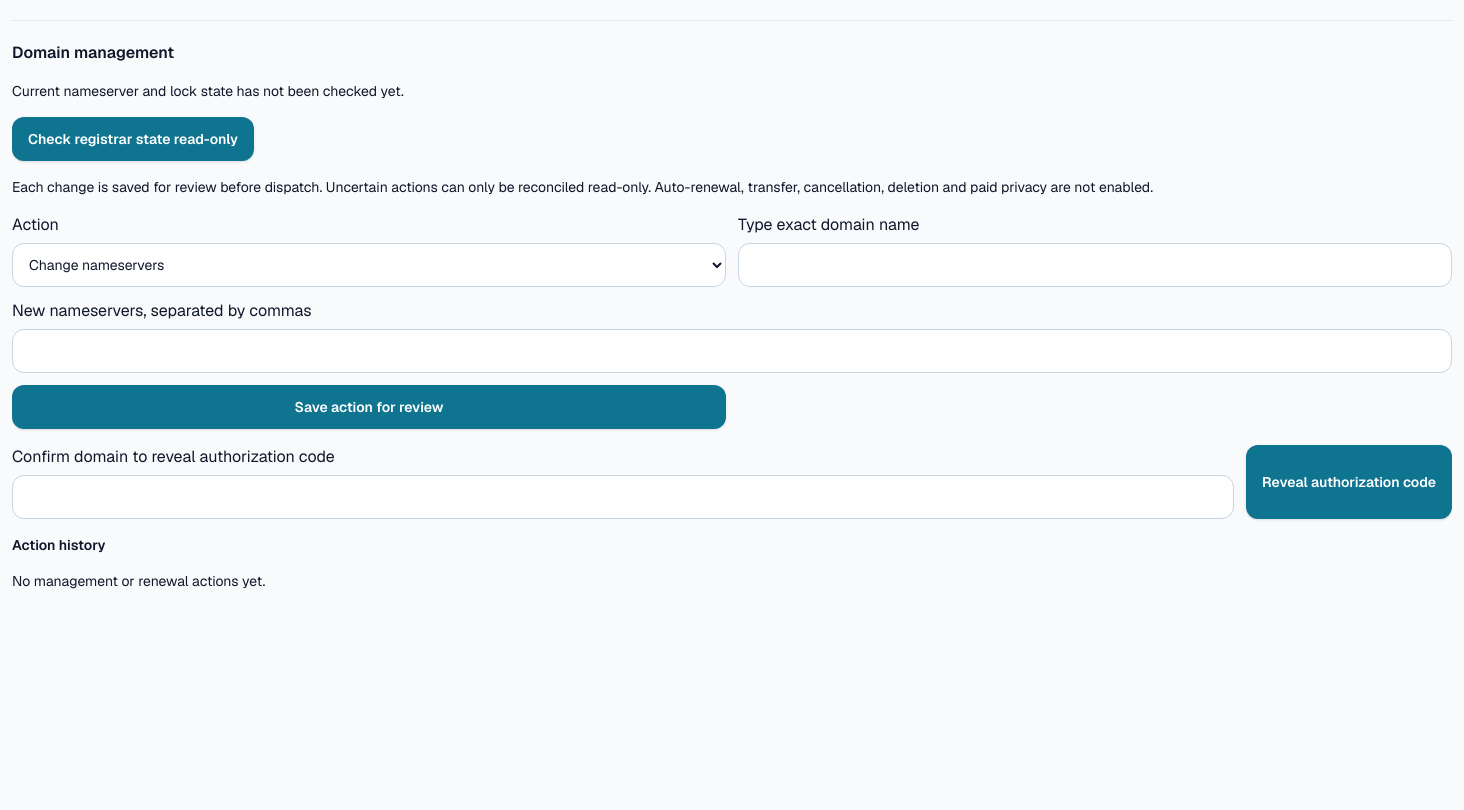
Test case: domain management controls › keeps a revealed code out of storage and hides it on explicit dismissal
This screenshot has width=1464, height=810.
Type "fictional-managed.com" into the field labelled "Confirm domain to reveal authorization code" at coordinates (623, 497), box [12,475,1234,519]
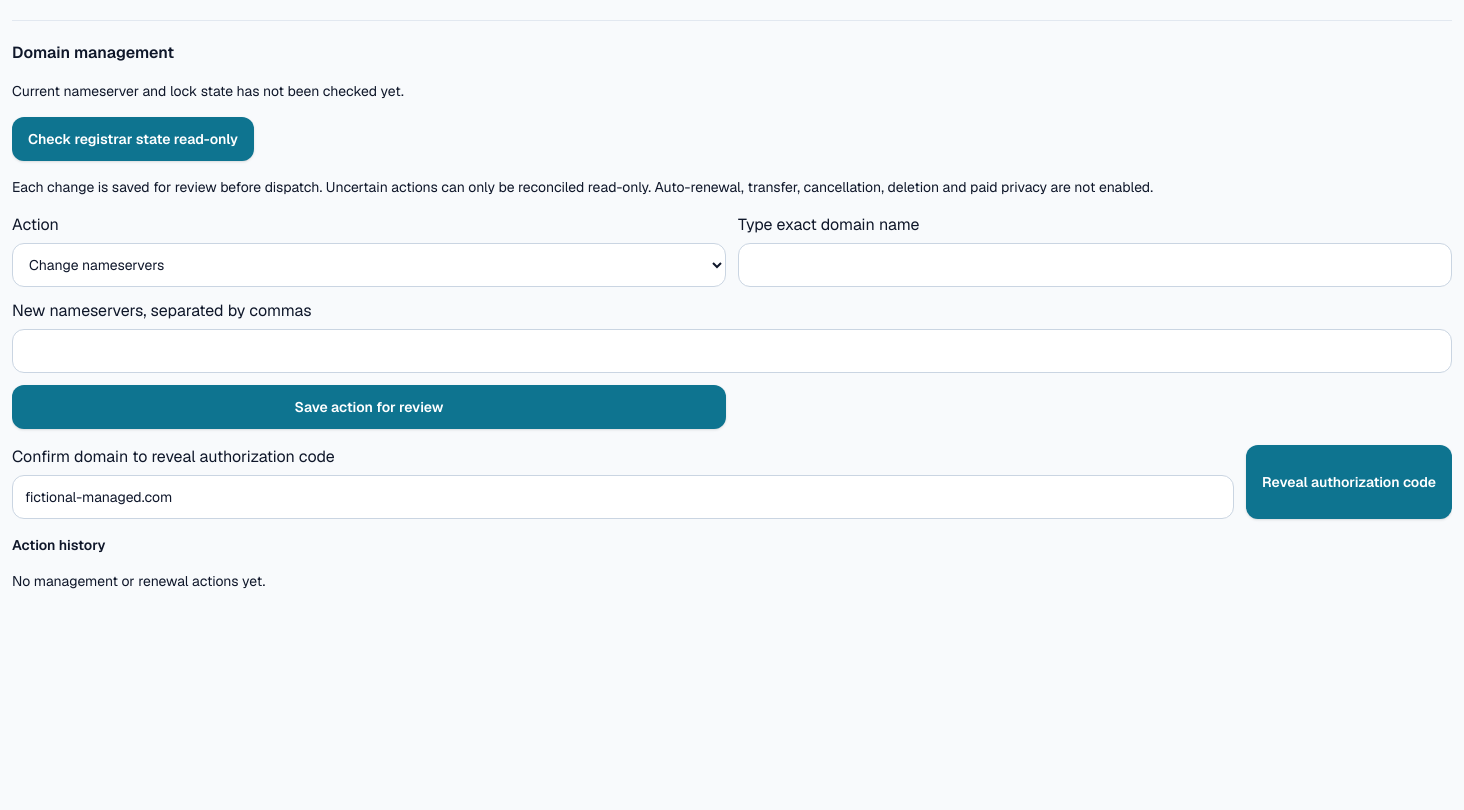
Submit the form "reveal authorization code", box [12,445,1452,519]
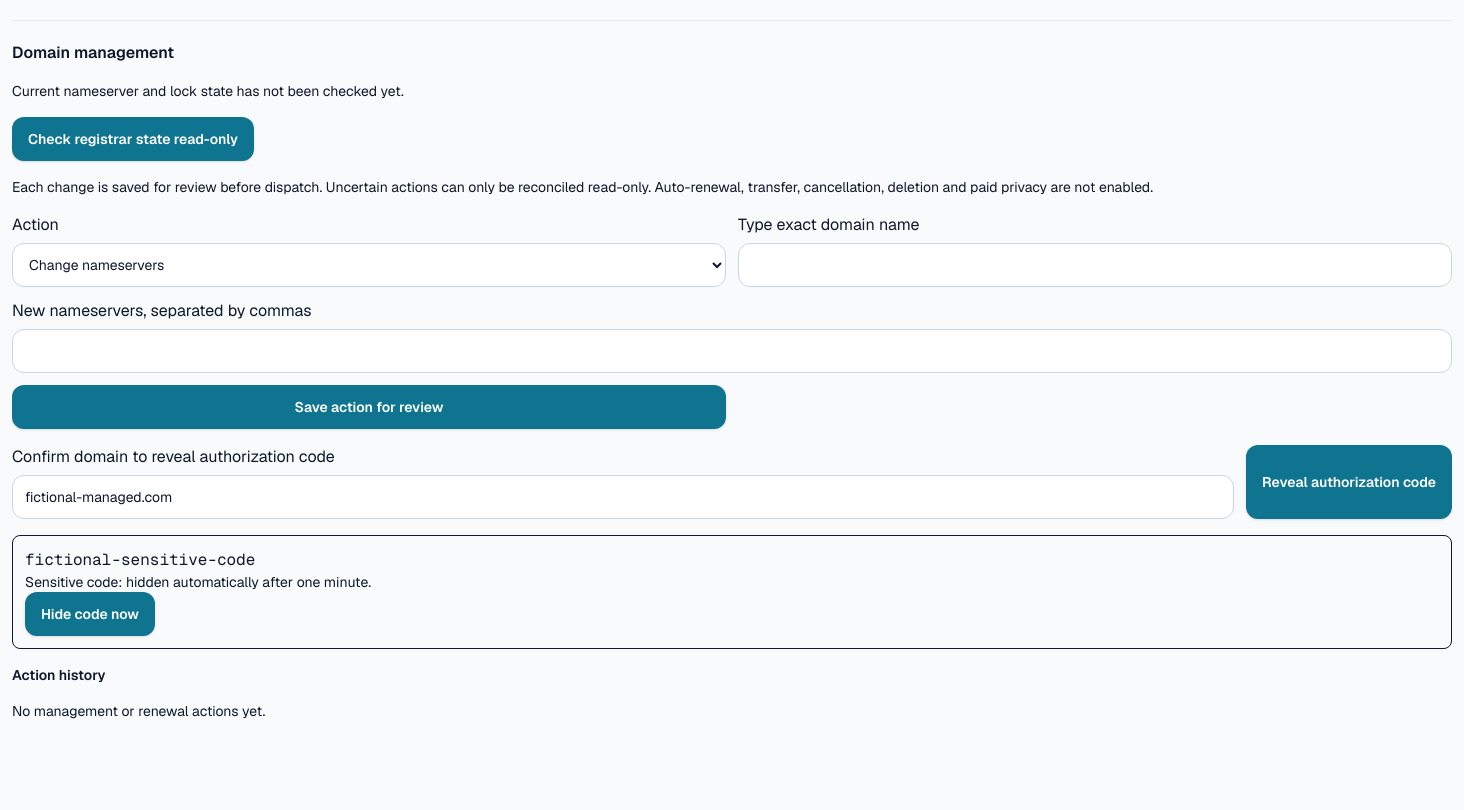
Result: the text "fictional-sensitive-code" is shown at [25,549,255,570]
Click the button "Hide code now" at coordinates (90, 614), box [25,592,155,636]
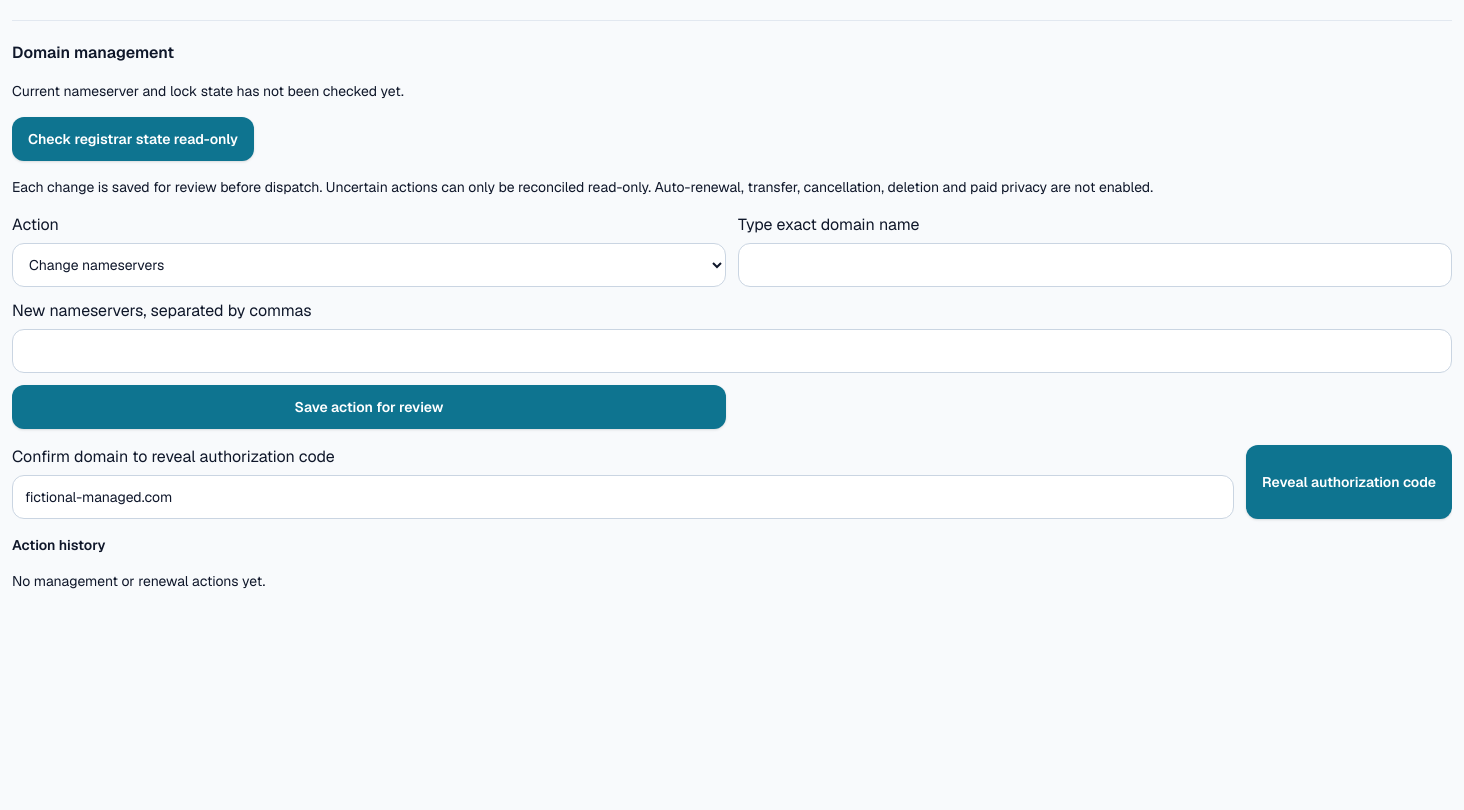
Result: the text "fictional-sensitive-code" is gone
